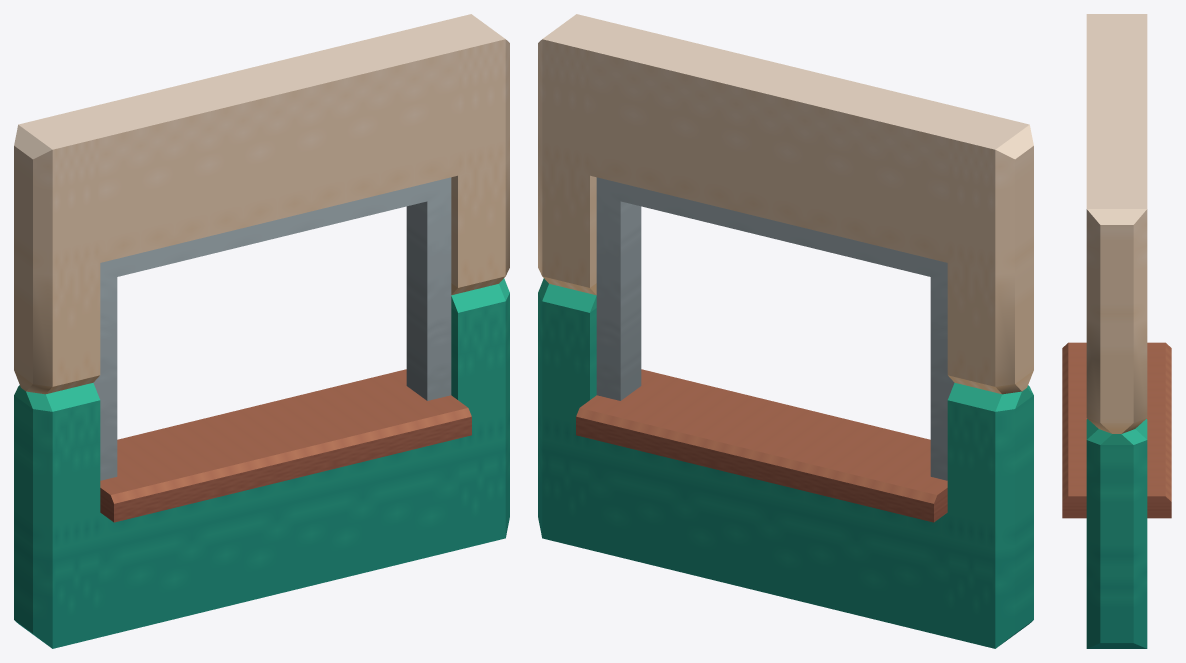
The model's file is restaurant-wall-orderwindow.gltf.
The picture shows the model from 3 angles, left to right: view 1: azimuth 30°, elevation 25°; view 2: azimuth 150°, elevation 25°; view 3: azimuth 270°, elevation 25°; orthographic projection. The views are drawn at different scales.
Parts seen in each view (by area): view 1: wall_orderwindow; view 2: wall_orderwindow; view 3: wall_orderwindow.
Boxes of the visible parts, box(x1,y1,x2,y2) form: wall_orderwindow: box(14, 14, 509, 648); wall_orderwindow: box(538, 14, 1033, 648); wall_orderwindow: box(1062, 14, 1171, 648).
Bounding box in the file's own units: 4 × 4 × 0.9.
1 material, 1 textured.
